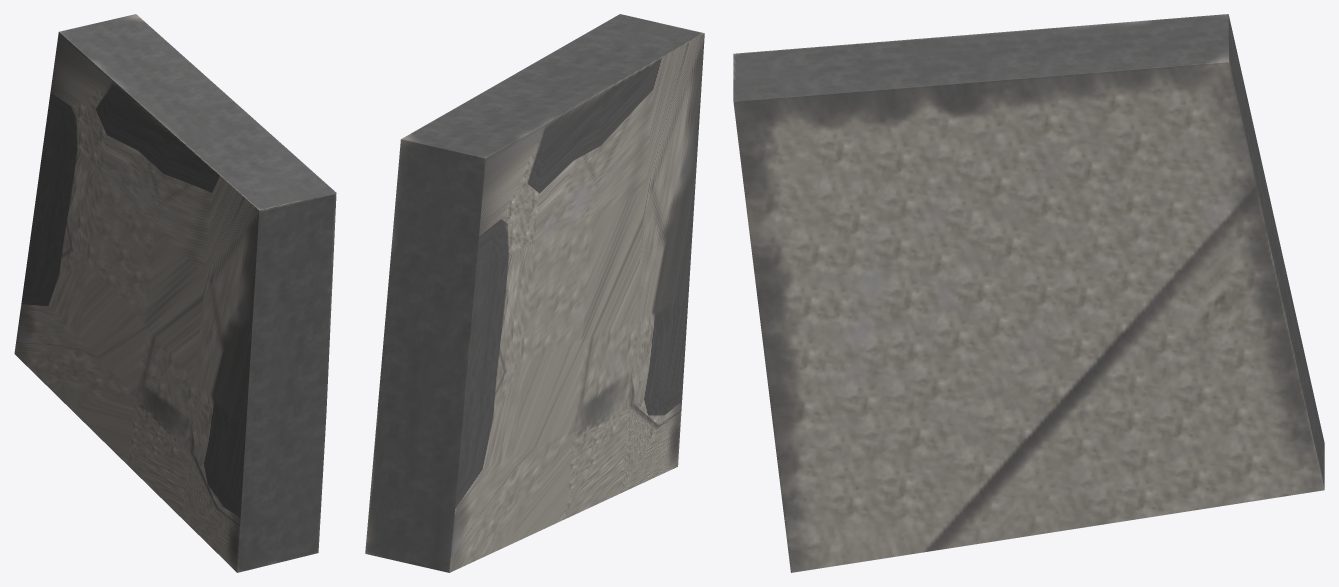
3 renders of one model, left to right at view 1: azimuth 30°, elevation 25°; view 2: azimuth 150°, elevation 25°; view 3: azimuth 270°, elevation 25°, orthographic. The views are drawn at different scales.
Parts seen in each view (by area): view 1: Destructible.001; view 2: Destructible.001; view 3: Destructible.001.
Part boxes in pixels (x1=…): Destructible.001: x1=14, y1=14, x2=336, y2=572; Destructible.001: x1=365, y1=14, x2=704, y2=572; Destructible.001: x1=733, y1=14, x2=1324, y2=572.
Bounding box in the file's own units: 67.29 × 300 × 316.
1 material, 1 textured.
